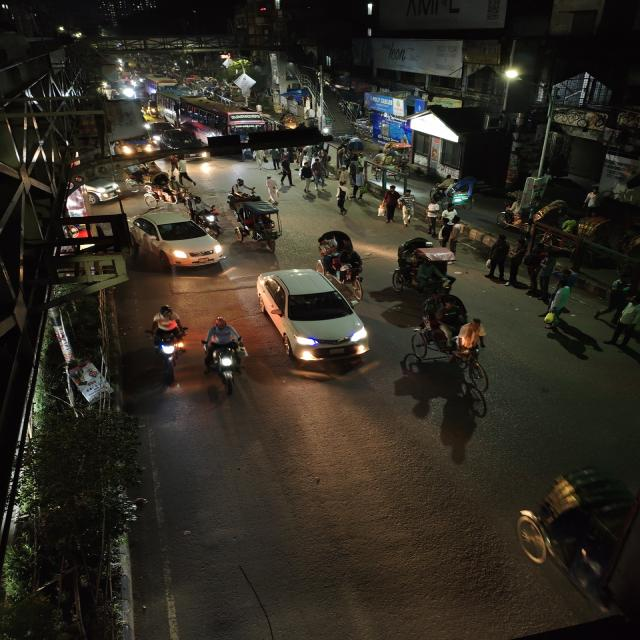bus: (170, 94, 266, 141), (141, 76, 177, 94)
car: (250, 266, 376, 375), (129, 206, 225, 274), (156, 128, 210, 160)
motorcycle: (198, 315, 251, 397), (142, 302, 192, 380), (191, 197, 224, 229)
pedestrian: (538, 282, 580, 328), (607, 294, 640, 352), (594, 279, 634, 325), (503, 236, 530, 286), (483, 234, 510, 281), (525, 244, 552, 290), (394, 187, 418, 226), (331, 178, 354, 216), (440, 217, 466, 250), (379, 185, 401, 223), (349, 165, 369, 201), (424, 200, 444, 235), (278, 154, 298, 188), (301, 161, 322, 191), (310, 159, 330, 190), (262, 175, 281, 203), (259, 147, 275, 171)
pickup_van: (114, 134, 155, 158)
rickshaw: (406, 291, 498, 383), (388, 237, 465, 298), (314, 228, 367, 296), (232, 199, 289, 253), (71, 167, 126, 206), (140, 172, 185, 206)
